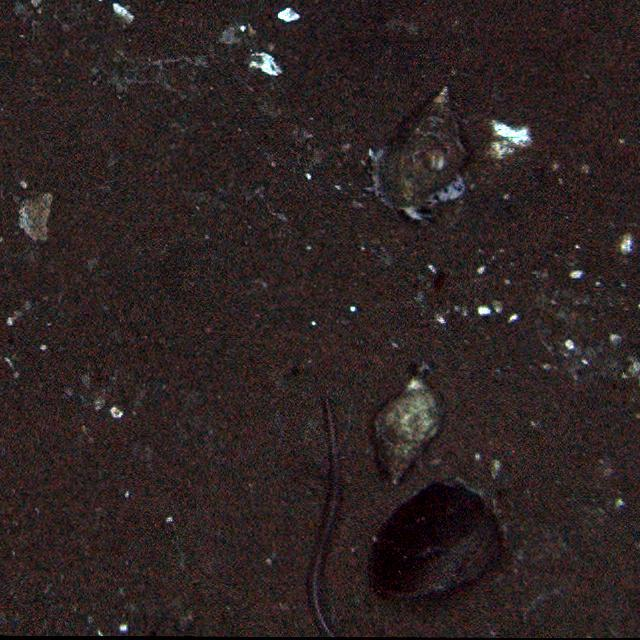eel: (309, 399, 351, 640)
